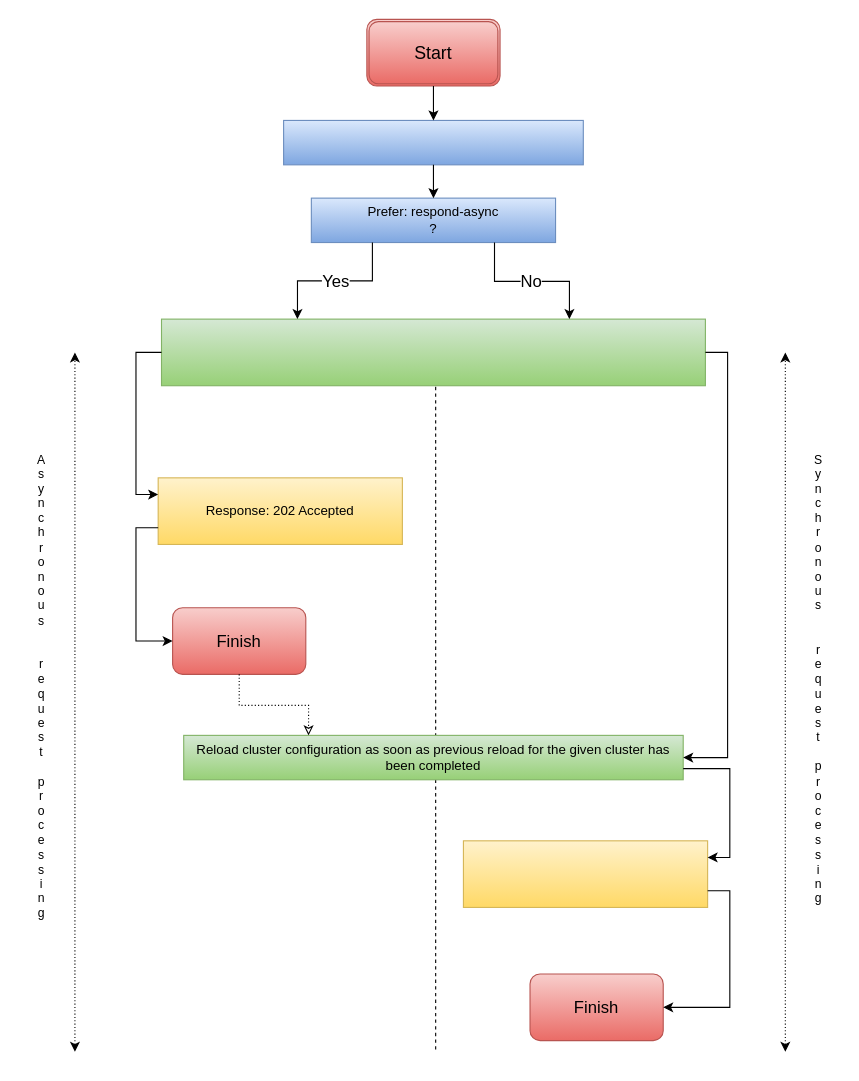
The diagram is 859 pixels wide and 1081 high, and some of its shapes have lost their labels. The shapes that lost their labels are listed below. From the top down, each one's centre as x and y in pixels, then its label:
(x=432, y=142): Request from a browser or API is received by VaaS
(x=432, y=352): Save data in the database and trigger signal for celery
(x=585, y=873): Response: 201 Created
